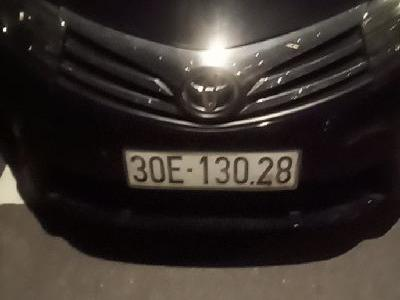number: (121, 149, 298, 193)
